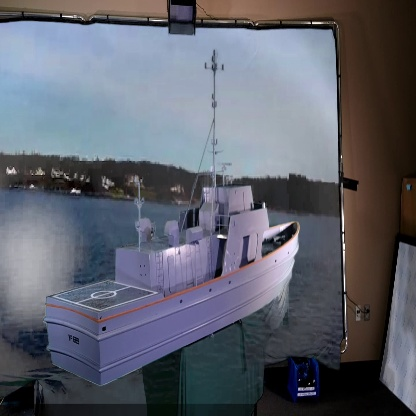YP689: (42, 53, 300, 391)
